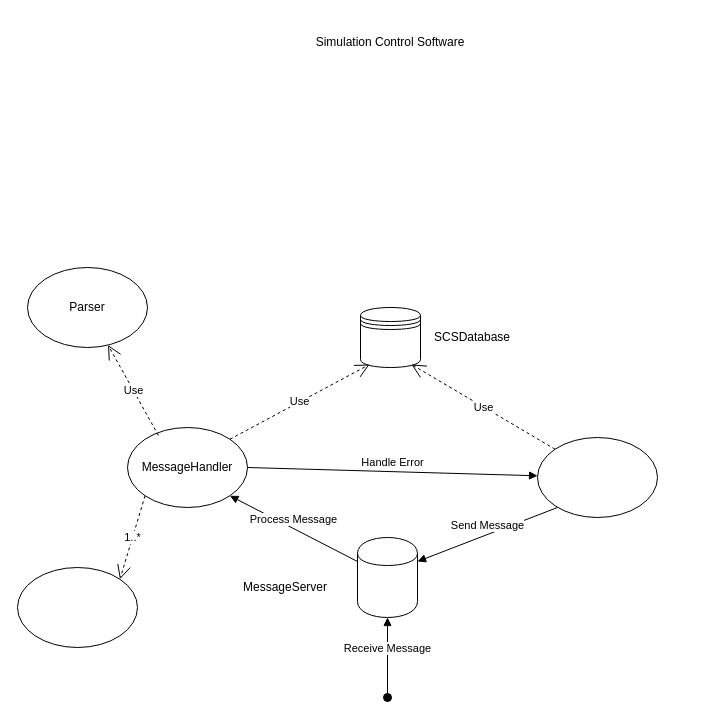
Some shapes in this 705 by 726 pixel diagram are drawn without their labels. The centre of each missing label's shape, as x and y in pixels:
"HelperClasses" belongs at point (77, 607).
"MessageGenerator" belongs at point (597, 477).
